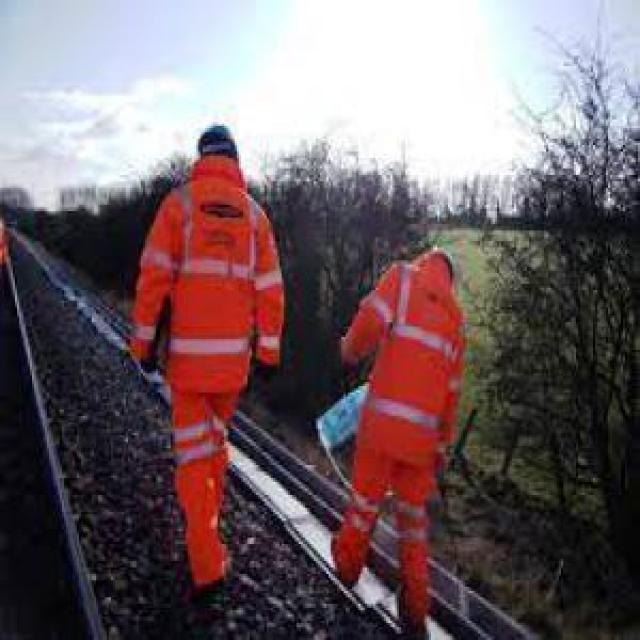rail: (1, 224, 581, 638)
